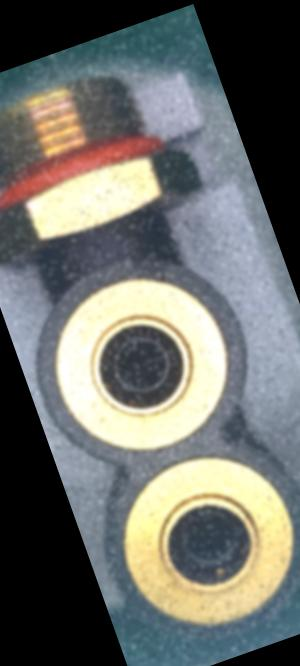bump: (128, 250, 173, 284)
white mark: (82, 224, 99, 241)
